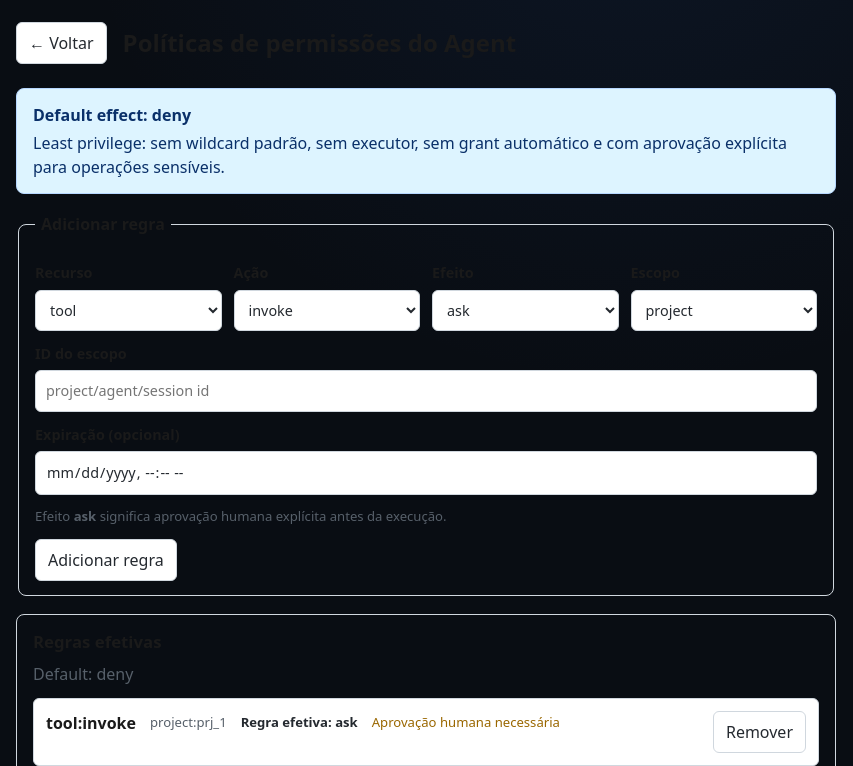
Scenario: PermissionsPage › requires ask or deny for destructive process execution
Expected: the text "Default: deny" is shown, [33,663,133,685]
Select "process" in the dropdown labelled "Recurso" at (128, 310), box [35,290,222,331]
Select "execute" in the dropdown labelled "Ação" at (327, 310), box [234,290,420,331]
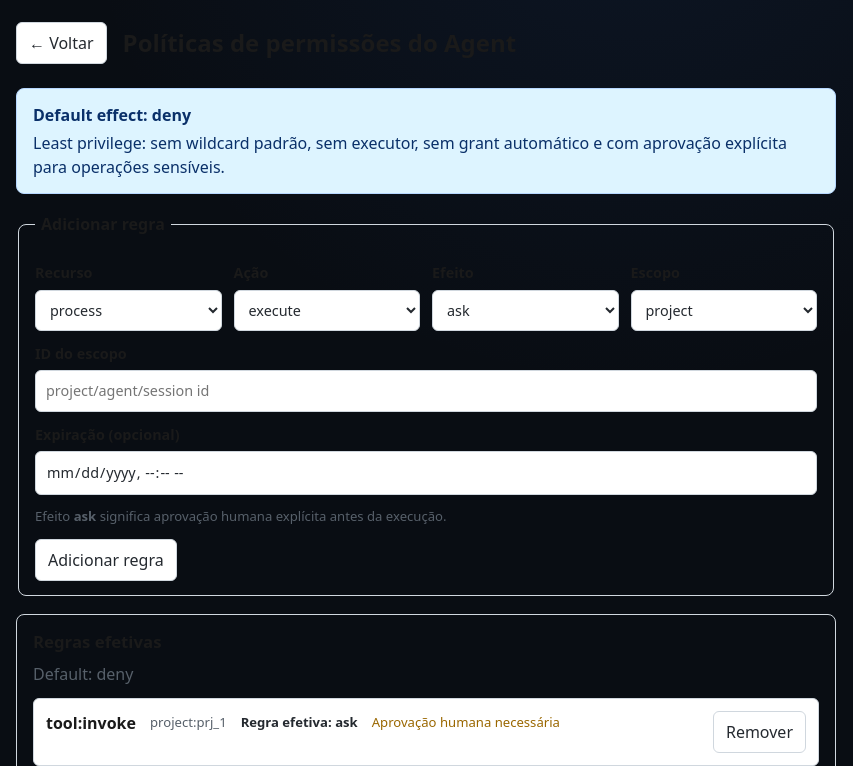
Select "allow" in the dropdown labelled "Efeito" at (525, 310), box [432,290,618,331]
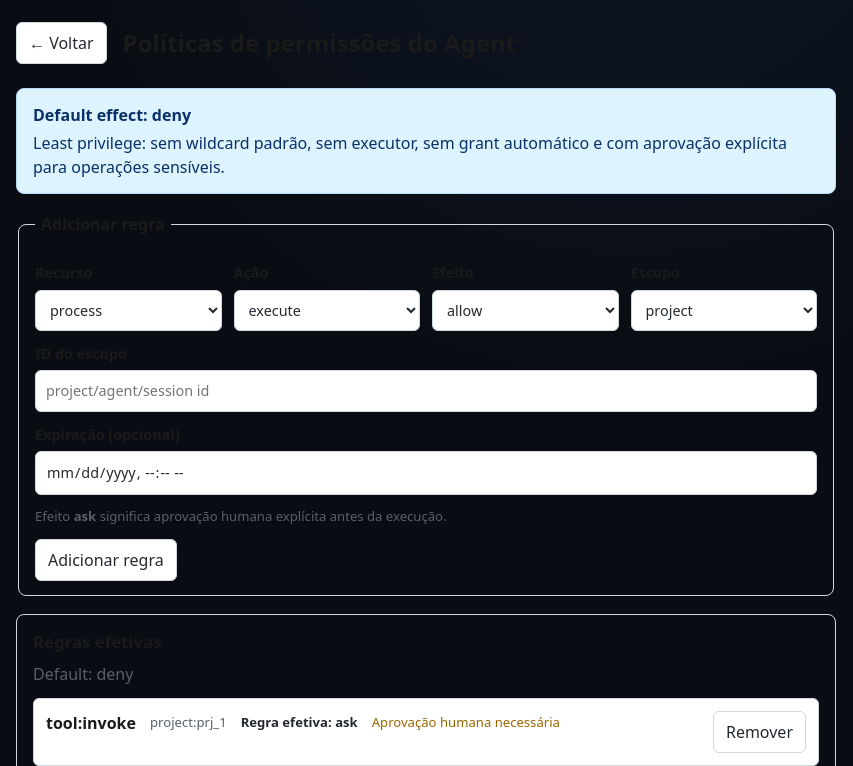
Type "process-1" into the field labelled "ID do escopo" at (426, 391), box [35,370,817,412]
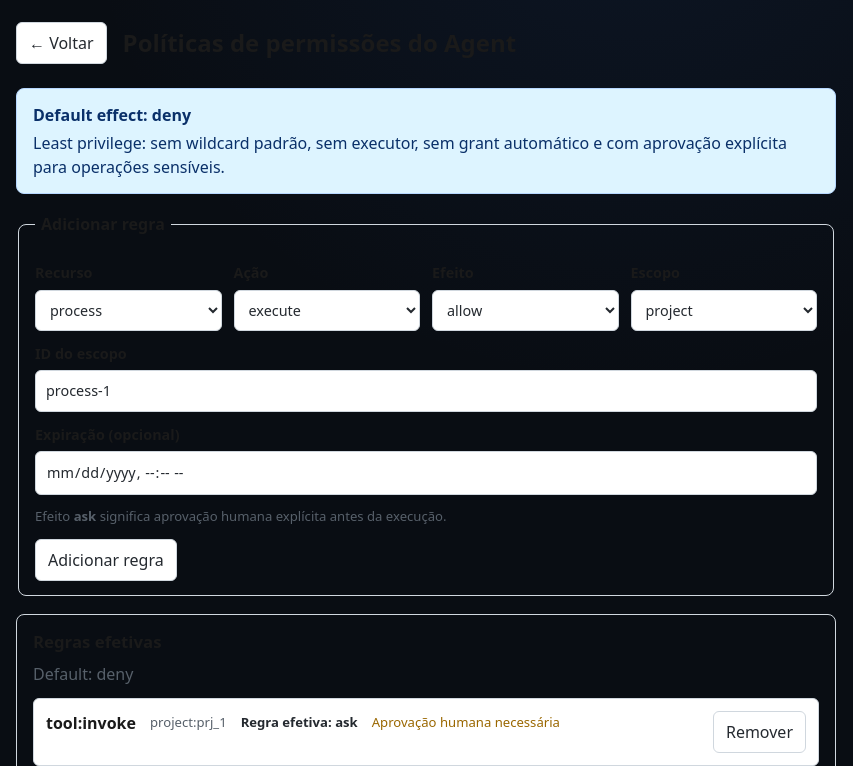
Click the button "Adicionar regra" at (106, 560), box [35,539,177,581]
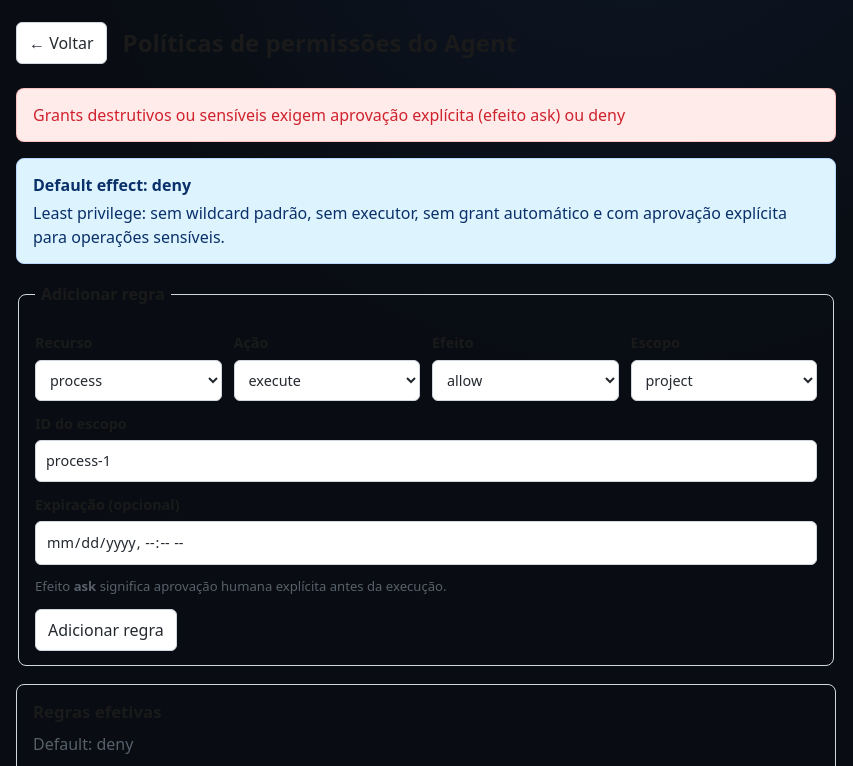
Expected: the text "process:execute" is not shown
Expected: the message shows "aprovação explícita", [33,104,625,126]
Select "ask" in the dropdown labelled "Efeito" at (525, 380), box [432,360,618,401]
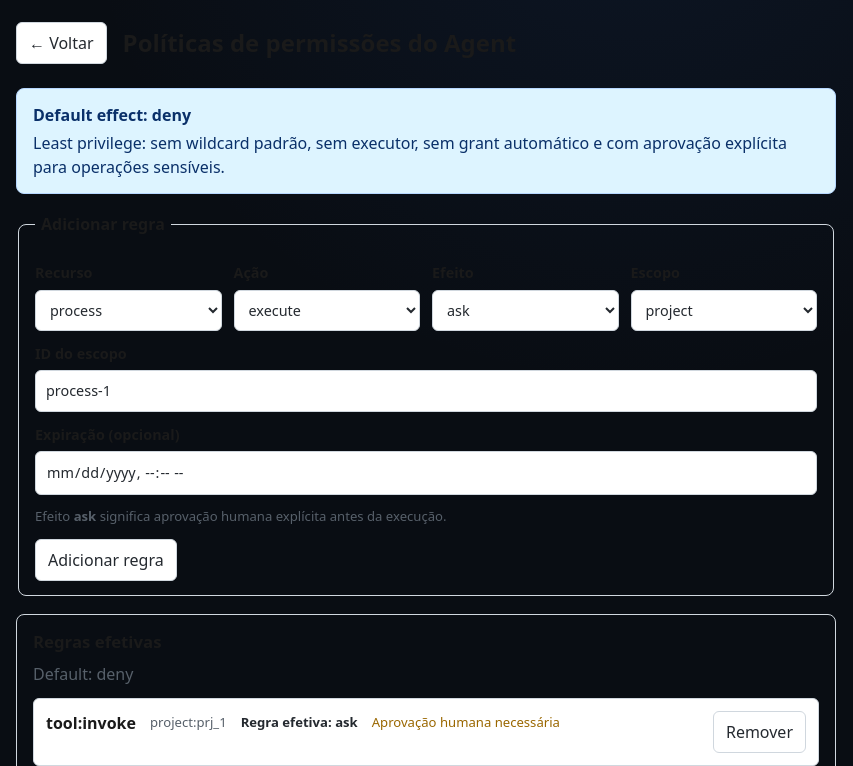
Click the button "Adicionar regra" at (106, 560), box [35,539,177,581]
(page scrolled)
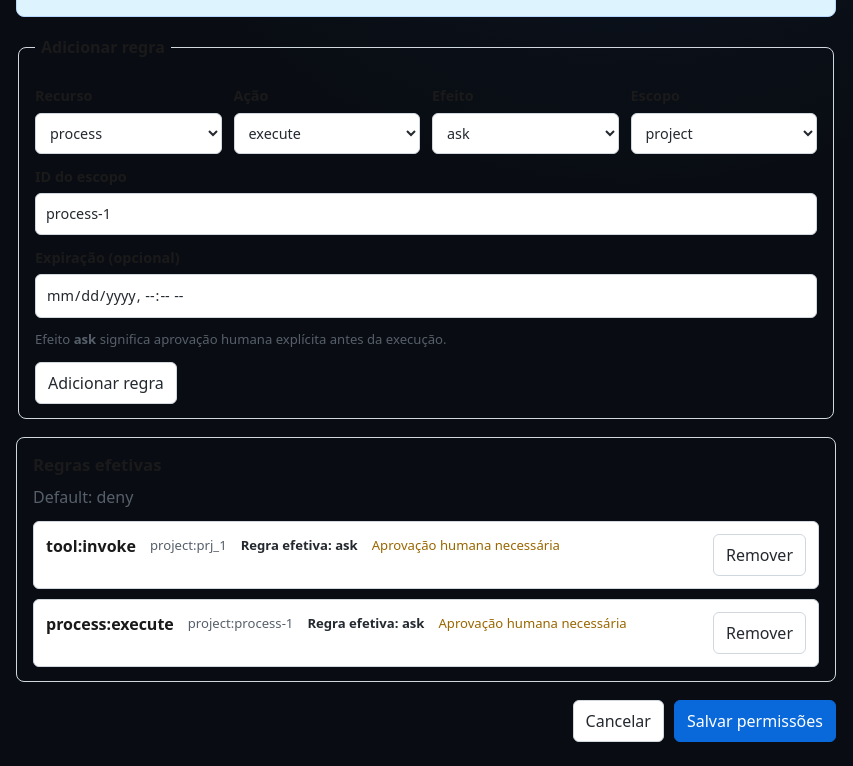
Expected: the text "process:execute" is shown, [46,612,174,636]
